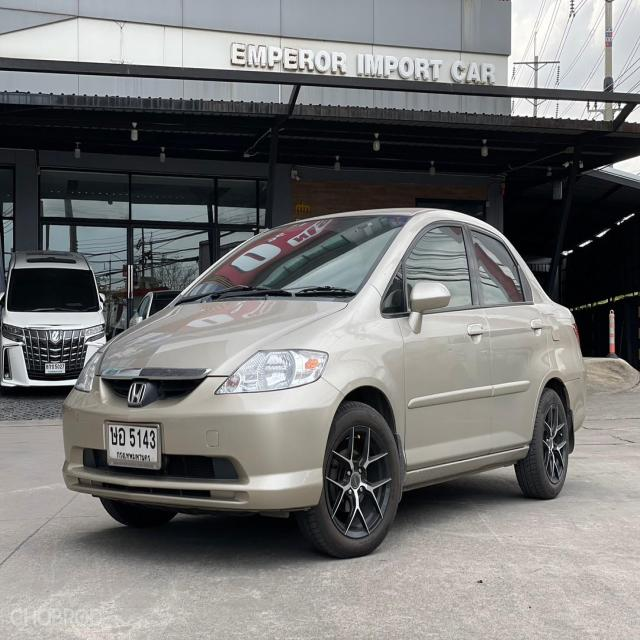license_plate: (98, 418, 169, 475)
